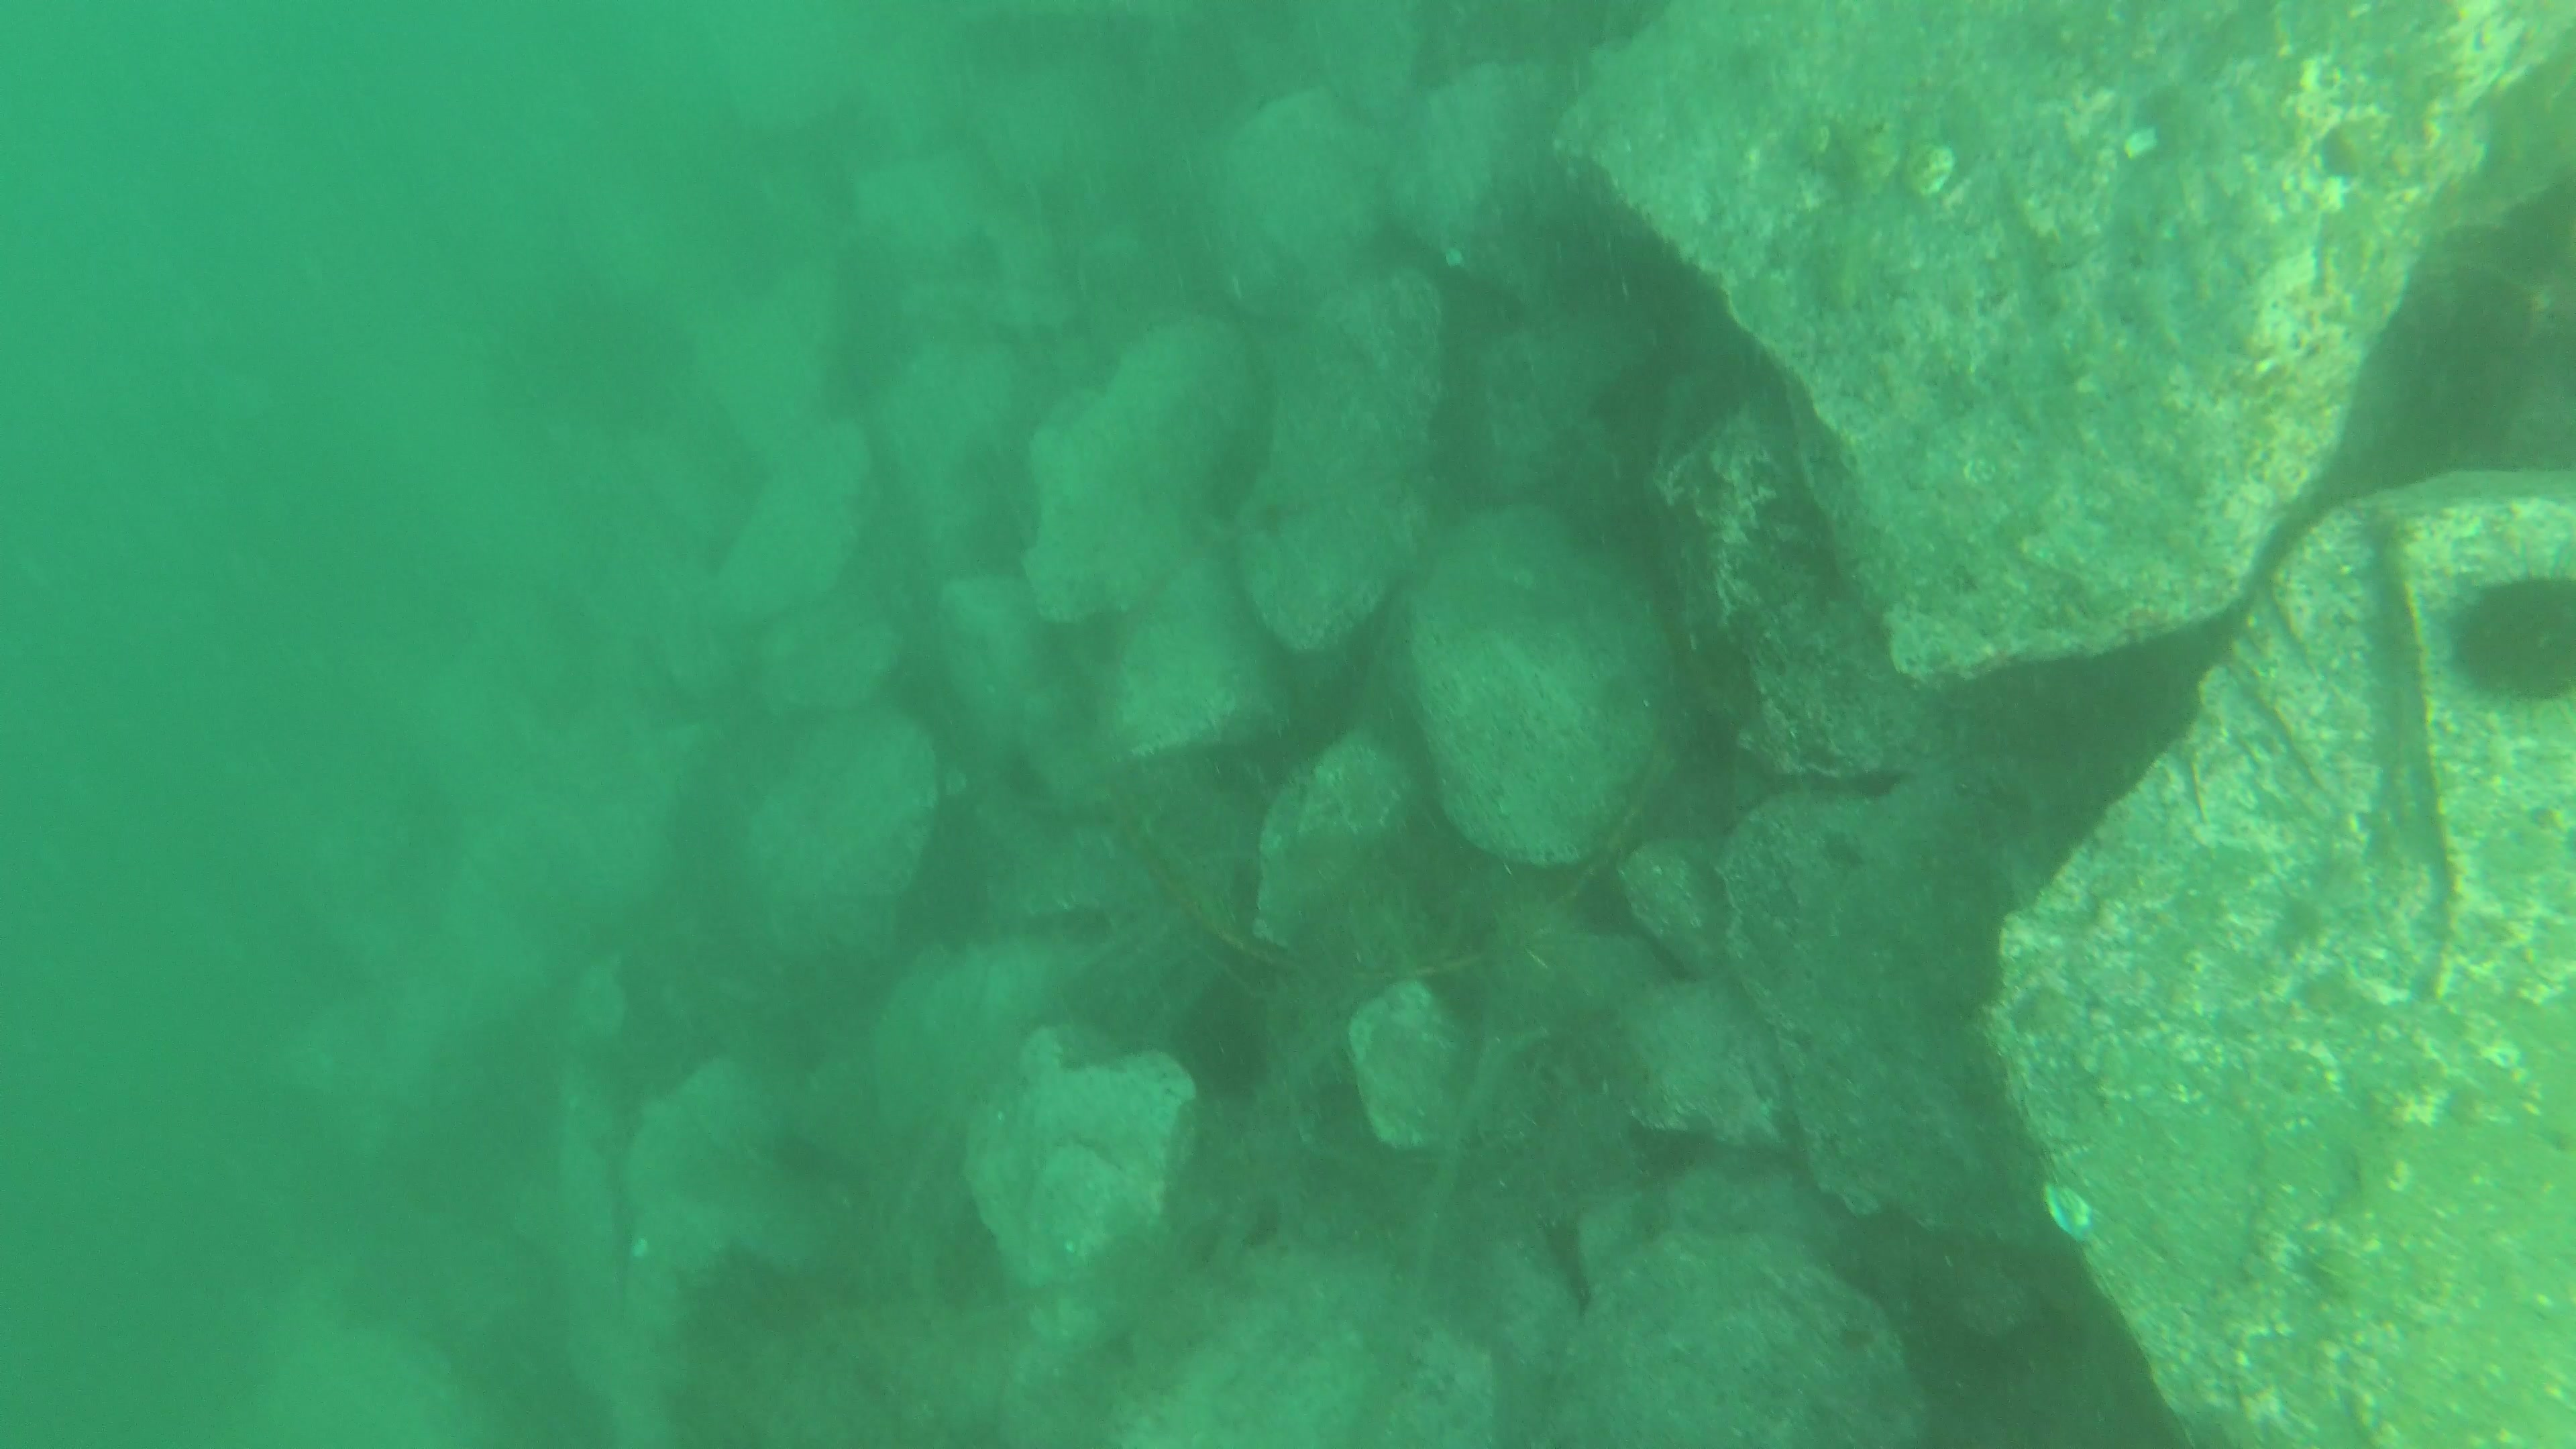echinus: (2456, 556, 2574, 722)
